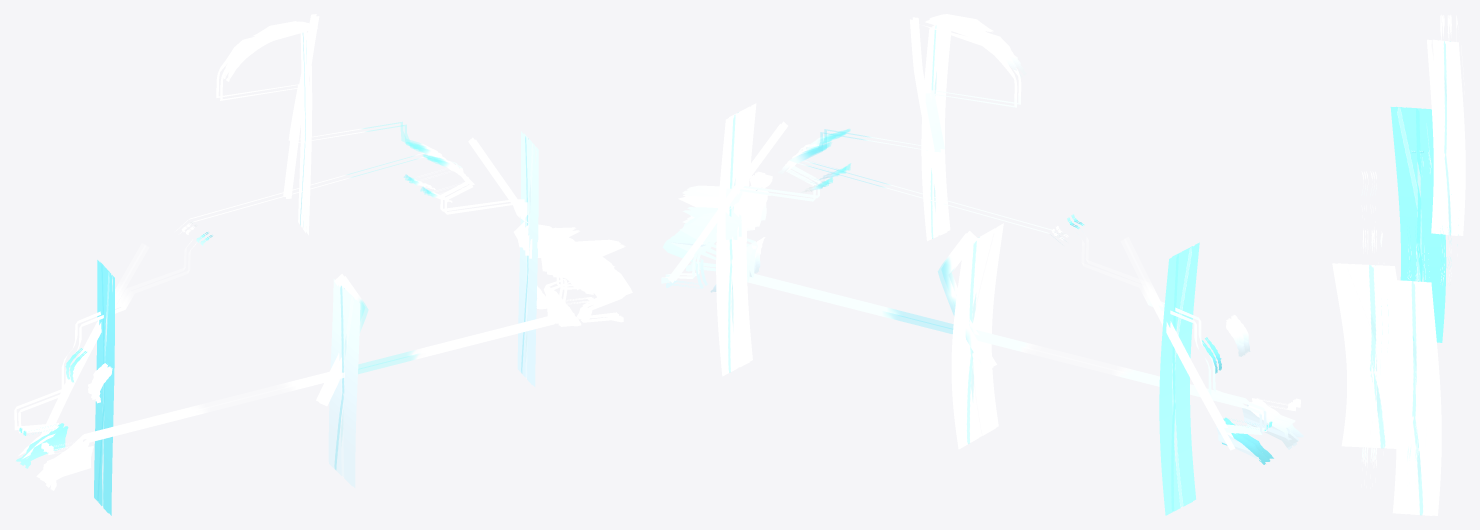
File: yuna_curve_bundle_hair_v1.glb
The picture shows the model from 3 angles, left to right: view 1: azimuth 30°, elevation 25°; view 2: azimuth 150°, elevation 25°; view 3: azimuth 270°, elevation 25°; orthographic projection. The views are drawn at different scales.
Parts seen in each view (by area): view 1: secondary_01_back_hair_mass, back_hair_mass_side_profile_support, side_hair_right_primary_side_profile_support, side_hair_left_primary_side_profile_support, back_hair_mass_component_01_01, secondary_04_bangs_primary, bangs_primary_side_profile_support, secondary_02_side_hair_left_primary, flyaway_02_side_hair_left_primary, secondary_03_side_hair_right_primary, back_hair_mass_component_02_01, bangs_primary_component_01_01 (+4 smaller); view 2: back_hair_mass_side_profile_support, side_hair_left_primary_side_profile_support, side_hair_right_primary_side_profile_support, secondary_01_back_hair_mass, bangs_primary_side_profile_support, secondary_04_bangs_primary, secondary_03_side_hair_right_primary, secondary_02_side_hair_left_primary, flyaway_02_side_hair_left_primary, flyaway_01_bangs_primary, flyaway_04_back_hair_mass, flyaway_03_side_hair_right_primary (+3 smaller); view 3: side_hair_right_primary_side_profile_support, back_hair_mass_side_profile_support, side_hair_left_primary_side_profile_support, bangs_primary_side_profile_support, secondary_01_back_hair_mass, back_hair_mass_component_01_01, back_hair_mass_component_01_03, secondary_03_side_hair_right_primary, back_hair_mass_component_01_02.
Boxes of the visible parts, bbox=[...] form: secondary_01_back_hair_mass: bbox=[36, 234, 614, 481]; back_hair_mass_side_profile_support: bbox=[328, 279, 360, 487]; side_hair_right_primary_side_profile_support: bbox=[517, 131, 538, 386]; side_hair_left_primary_side_profile_support: bbox=[94, 260, 114, 515]; back_hair_mass_component_01_01: bbox=[547, 229, 632, 322]; secondary_04_bangs_primary: bbox=[175, 22, 430, 234]; bangs_primary_side_profile_support: bbox=[298, 31, 312, 235]; secondary_02_side_hair_left_primary: bbox=[14, 239, 196, 458]; flyaway_02_side_hair_left_primary: bbox=[41, 243, 148, 435]; secondary_03_side_hair_right_primary: bbox=[432, 157, 593, 294]; back_hair_mass_component_02_01: bbox=[40, 442, 93, 490]; bangs_primary_component_01_01: bbox=[223, 21, 317, 81]; back_hair_mass_side_profile_support: bbox=[951, 223, 1003, 449]; side_hair_left_primary_side_profile_support: bbox=[1159, 242, 1199, 515]; side_hair_right_primary_side_profile_support: bbox=[716, 103, 756, 376]; secondary_01_back_hair_mass: bbox=[678, 189, 1297, 447]; bangs_primary_side_profile_support: bbox=[921, 25, 951, 241]; secondary_04_bangs_primary: bbox=[789, 25, 1067, 245]; secondary_03_side_hair_right_primary: bbox=[661, 138, 831, 283]; secondary_02_side_hair_left_primary: bbox=[1076, 228, 1266, 460]; flyaway_02_side_hair_left_primary: bbox=[1121, 237, 1235, 450]; flyaway_01_bangs_primary: bbox=[910, 17, 948, 212]; flyaway_04_back_hair_mass: bbox=[938, 231, 996, 370]; flyaway_03_side_hair_right_primary: bbox=[667, 121, 787, 283]; side_hair_right_primary_side_profile_support: bbox=[1386, 280, 1441, 515]; back_hair_mass_side_profile_support: bbox=[1332, 263, 1396, 448]; side_hair_left_primary_side_profile_support: bbox=[1390, 106, 1446, 342]; bangs_primary_side_profile_support: bbox=[1427, 39, 1465, 235]; secondary_01_back_hair_mass: bbox=[1371, 231, 1384, 455]; back_hair_mass_component_01_01: bbox=[1361, 357, 1372, 488]; back_hair_mass_component_01_03: bbox=[1366, 354, 1376, 487]; secondary_03_side_hair_right_primary: bbox=[1416, 243, 1427, 480]; back_hair_mass_component_01_02: bbox=[1364, 355, 1374, 486].
Size of the model in its own units: 3 by 2.1 by 0.6088.
7 materials, 6 textured.
